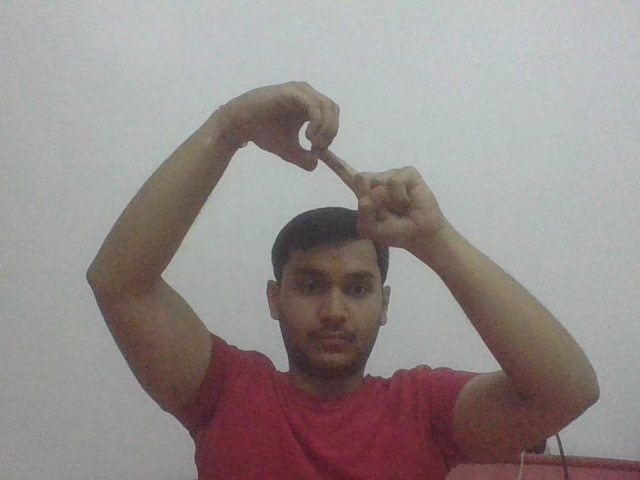Q: (269, 83, 405, 207)
